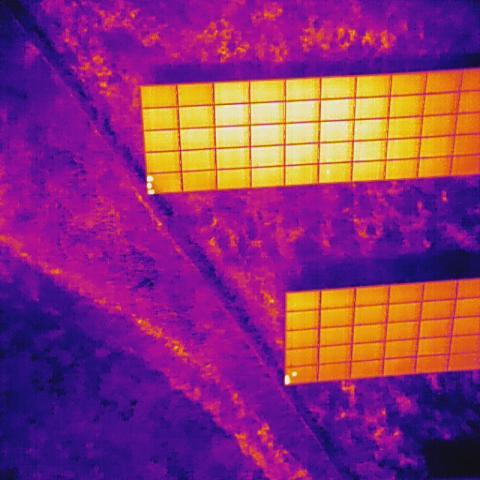fault: (144, 170, 156, 196), (282, 376, 292, 390), (292, 366, 299, 380)
